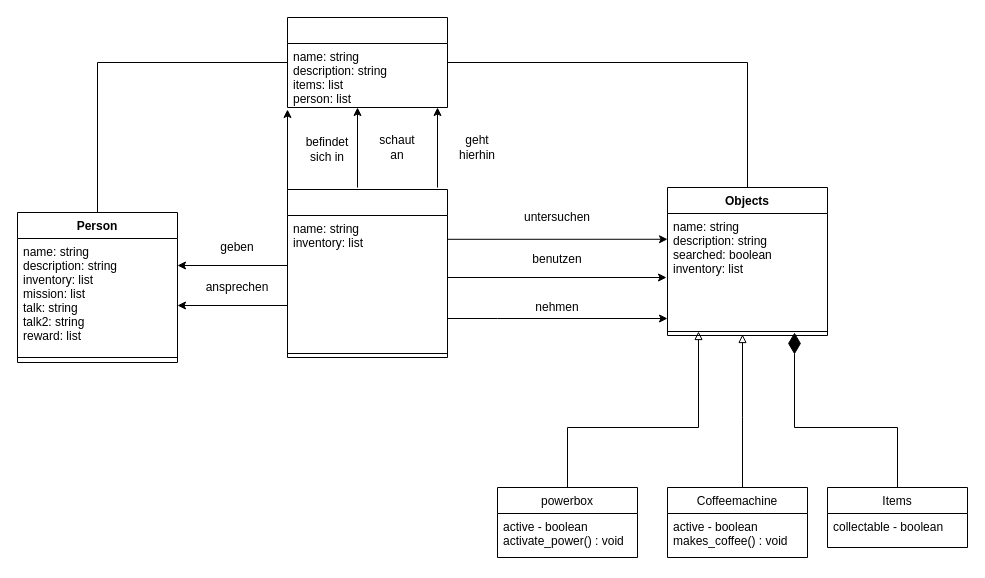
Some shapes in this 985 by 578 pixel diagram are drawn without their labels. The shapes that lost their labels are listed below. From the top down, each one's box as (x1, y1, x2, y2) in pixels, then its label:
(286, 16, 448, 108): rooms
(286, 188, 448, 358): Player
